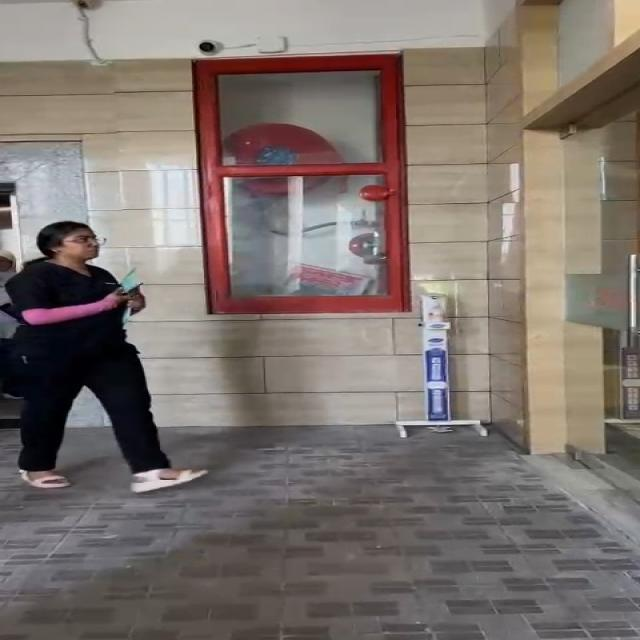door: (182, 38, 458, 344), (520, 113, 640, 506)
floor: (80, 423, 588, 640)
moving_object: (17, 213, 172, 518)
